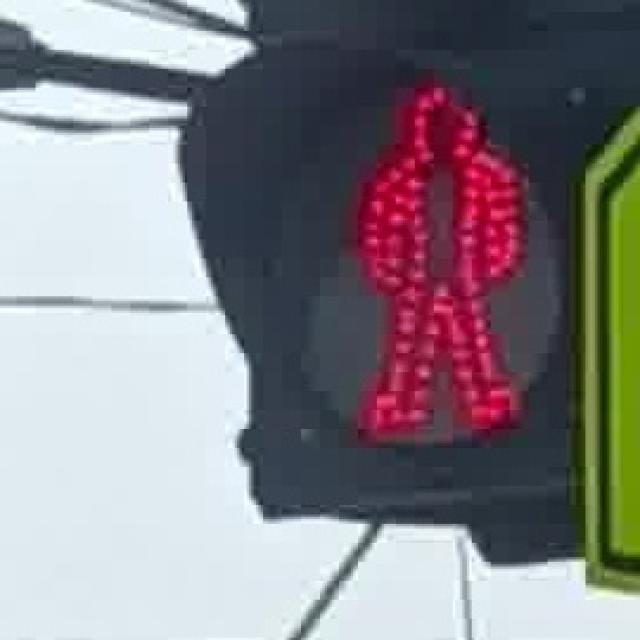red-crossing: (321, 55, 539, 458)
